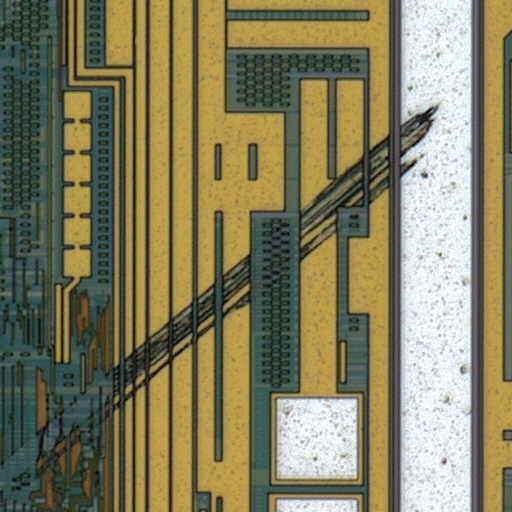SCRATCH: (1, 99, 446, 500)
